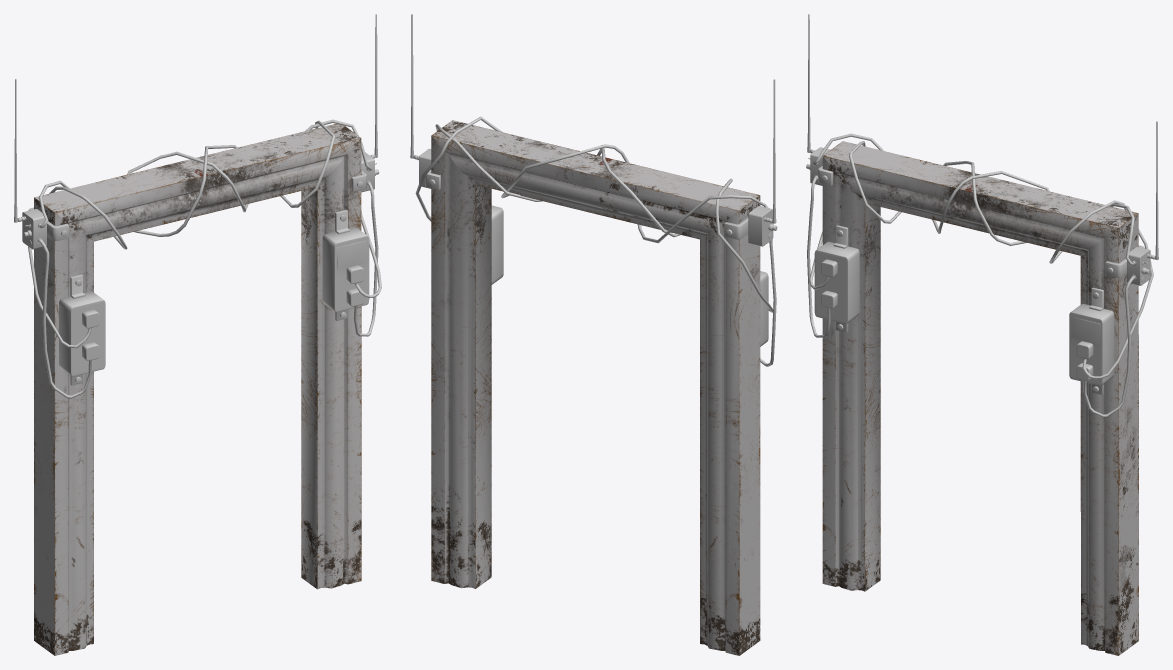
The model's file is outdoorway.fbx.
3 renders of one model, left to right at view 1: azimuth 30°, elevation 25°; view 2: azimuth 150°, elevation 25°; view 3: azimuth 330°, elevation 25°, orthographic. The views are drawn at different scales.
Parts seen in each view (by area): view 1: final out door, receiverbracket .001, powerbox, powerbox.001, receiverbracket, power plug .001, power plug; view 2: final out door, receiverbracket .001, receiverbracket, powerbox, powerbox.001; view 3: final out door, receiverbracket, powerbox, powerbox.001, receiverbracket .001, power plug .001, power plug.
Part boxes in pixels (x1,y1,x2,y2): final out door: (34,123,361,655); receiverbracket .001: (14,79,381,298); powerbox: (322,227,369,312); powerbox.001: (59,291,105,376); receiverbracket: (28,14,379,348); power plug .001: (38,238,99,398); power plug: (346,181,378,336); final out door: (431,120,760,655); receiverbracket .001: (415,79,777,246); receiverbracket: (410,14,773,312); powerbox: (491,205,503,284); powerbox.001: (760,271,768,346); final out door: (822,141,1138,655); receiverbracket: (809,121,1158,289); powerbox: (1069,304,1114,385); powerbox.001: (814,241,859,323); receiverbracket .001: (806,14,1153,379); power plug .001: (807,175,837,337); power plug: (1076,275,1135,417).
Bounding box in the file's own units: 177 × 267 × 40.35.
